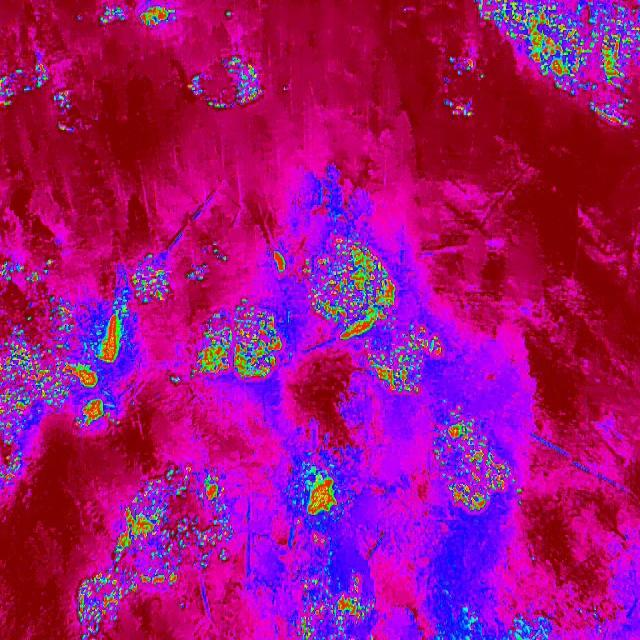fire: (0, 289, 137, 419), (117, 464, 237, 588), (430, 403, 539, 522), (300, 242, 402, 348), (193, 304, 300, 387), (475, 0, 640, 36), (292, 579, 381, 640), (283, 456, 354, 532), (371, 327, 447, 394), (72, 567, 135, 640), (517, 37, 640, 61), (557, 82, 640, 110), (540, 61, 640, 83), (0, 418, 30, 490), (130, 256, 170, 306)
